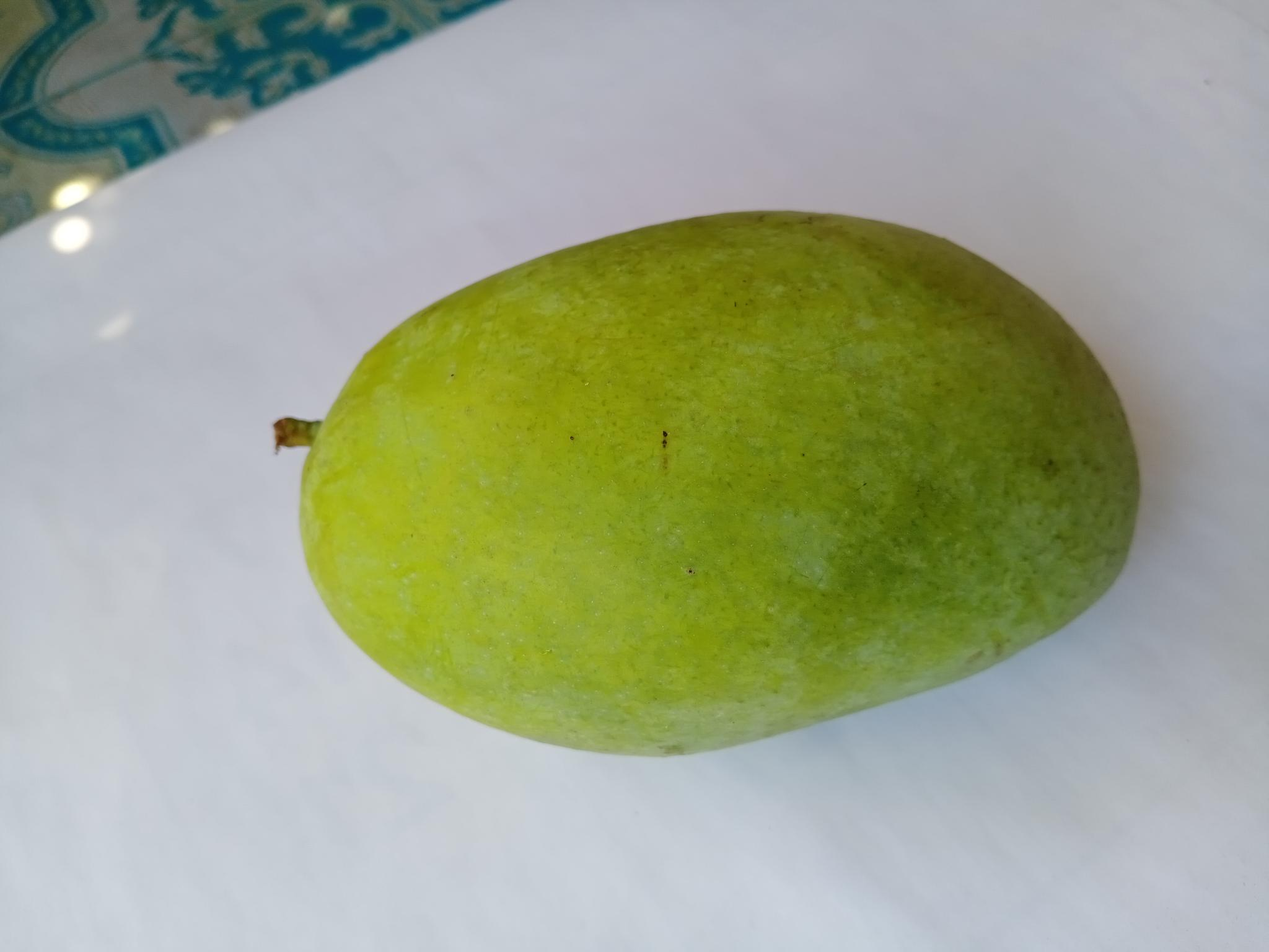Mango Unripe: (245, 201, 1167, 791)
